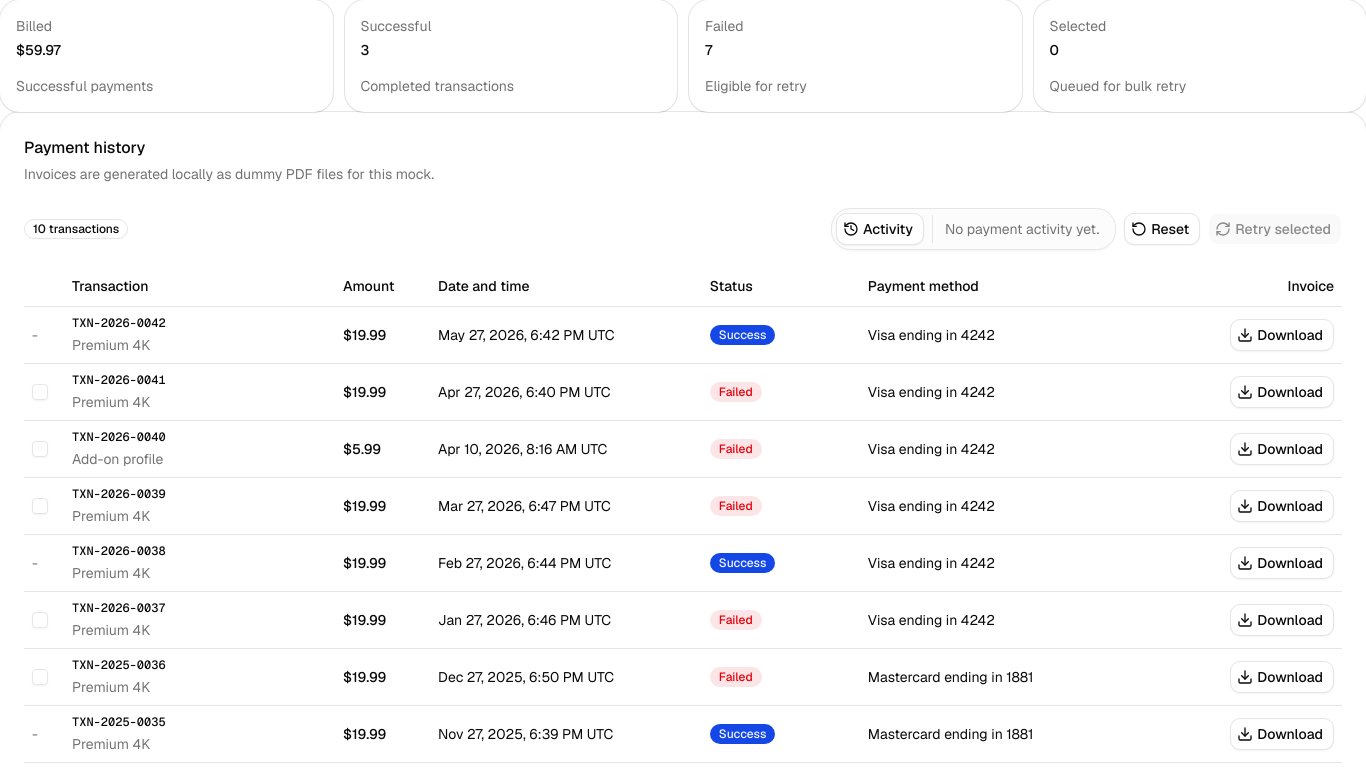
Test: TransactionsDashboard › resets transaction state and row feedback to the original mock data
The width and height of the screenshot is (1366, 768).
Click the checkbox named "select failed transaction TXN-2026-0039". click: (40, 506)
box: [32,498,48,514]
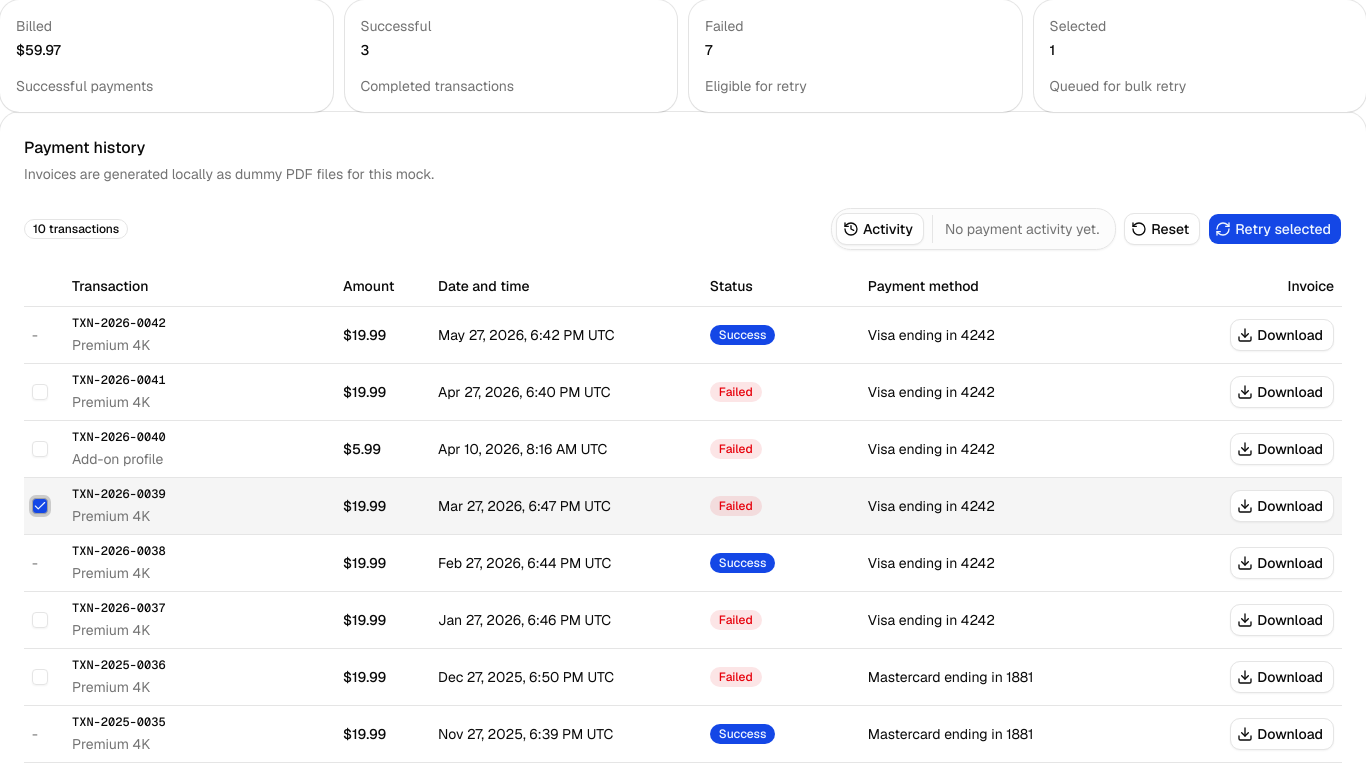
Click the button "Retry selected". click: (1275, 229)
box: [1208,213,1342,245]
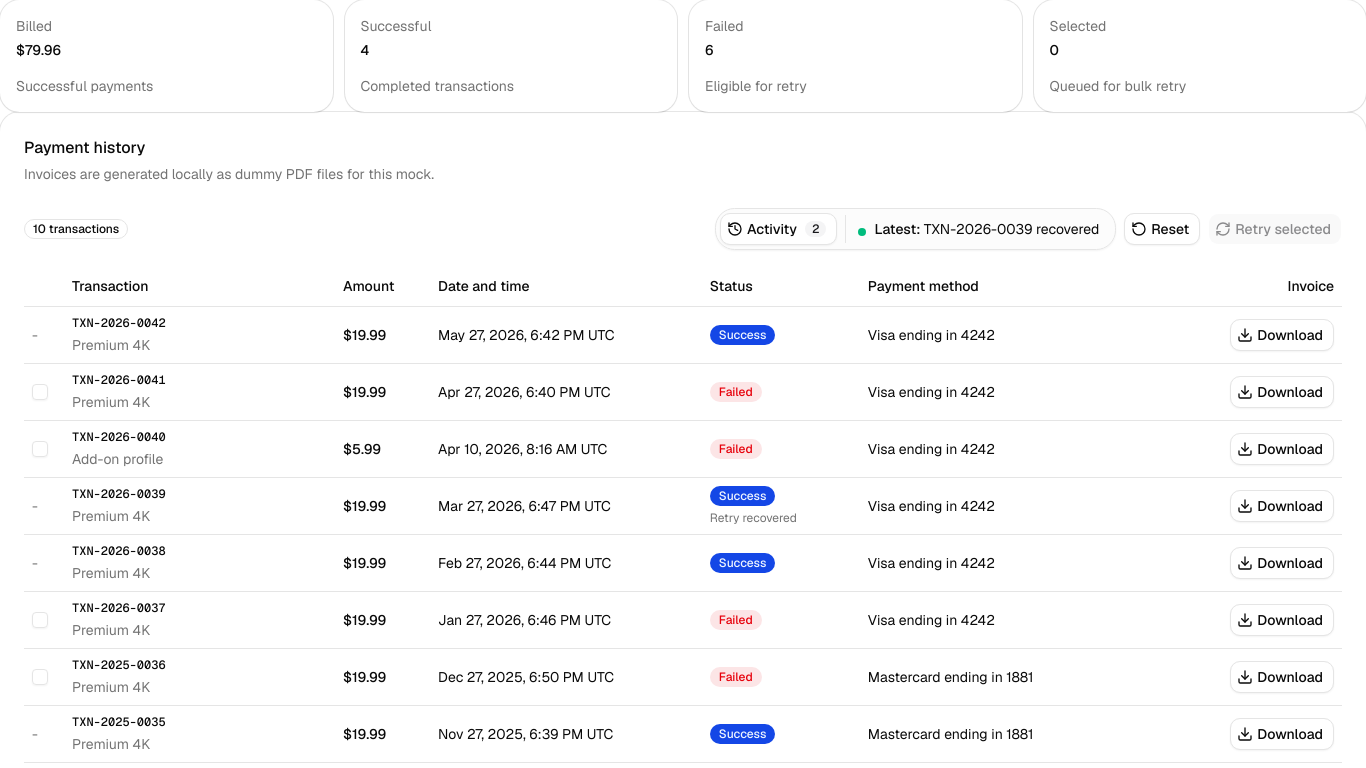
expect the text "Success" next to "Mar 27, 2026, 6:47 PM UTC" is shown: met, box [719,488,766,504]
expect the text "Retry recovered" is shown: met, box [710,510,797,526]
Click the button "Reset". click: (1162, 229)
box: [1124,213,1200,245]
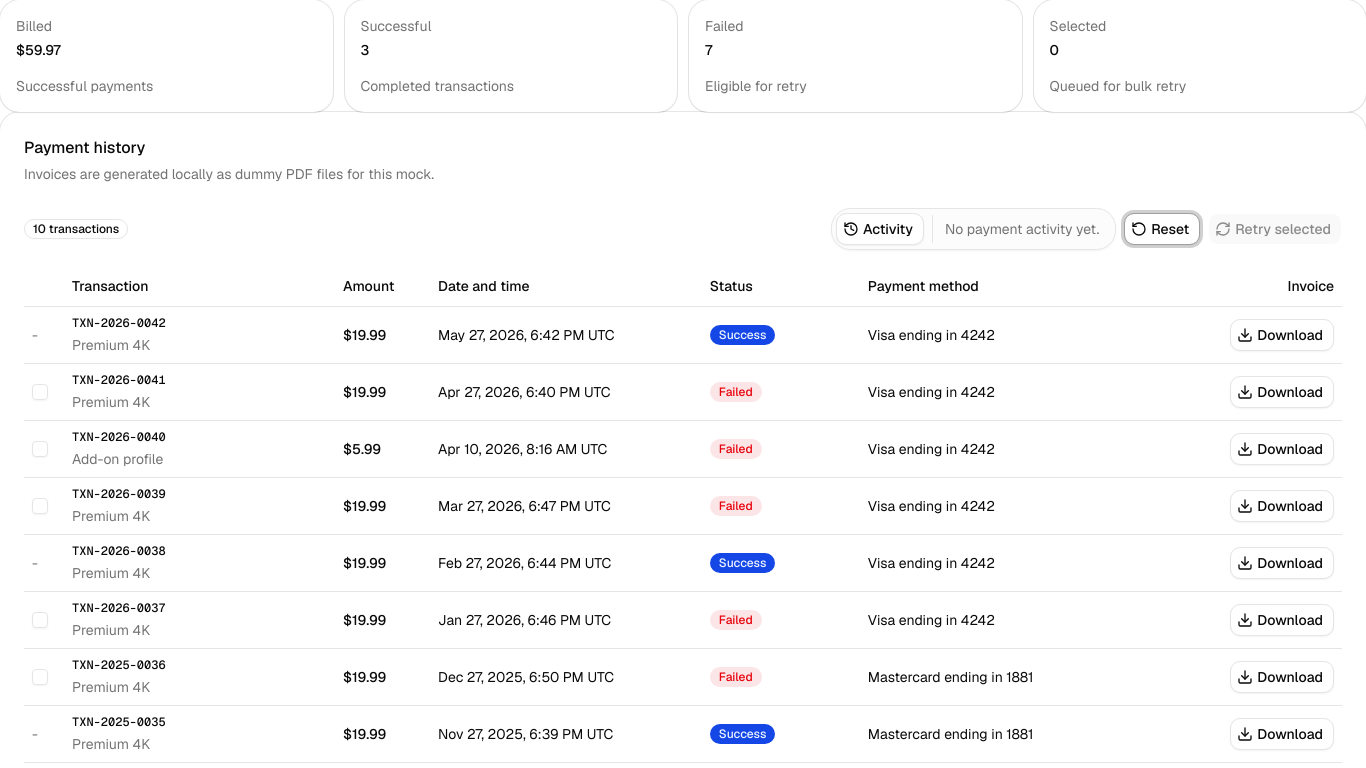
expect the icon "Failed" in the row of "TXN-2026-0039" is shown: met, box [719,498,753,514]
expect the text "Retry recovered" is gone: met
expect the text "No payment activity yet." is shown: met, box [945,219,1099,239]
